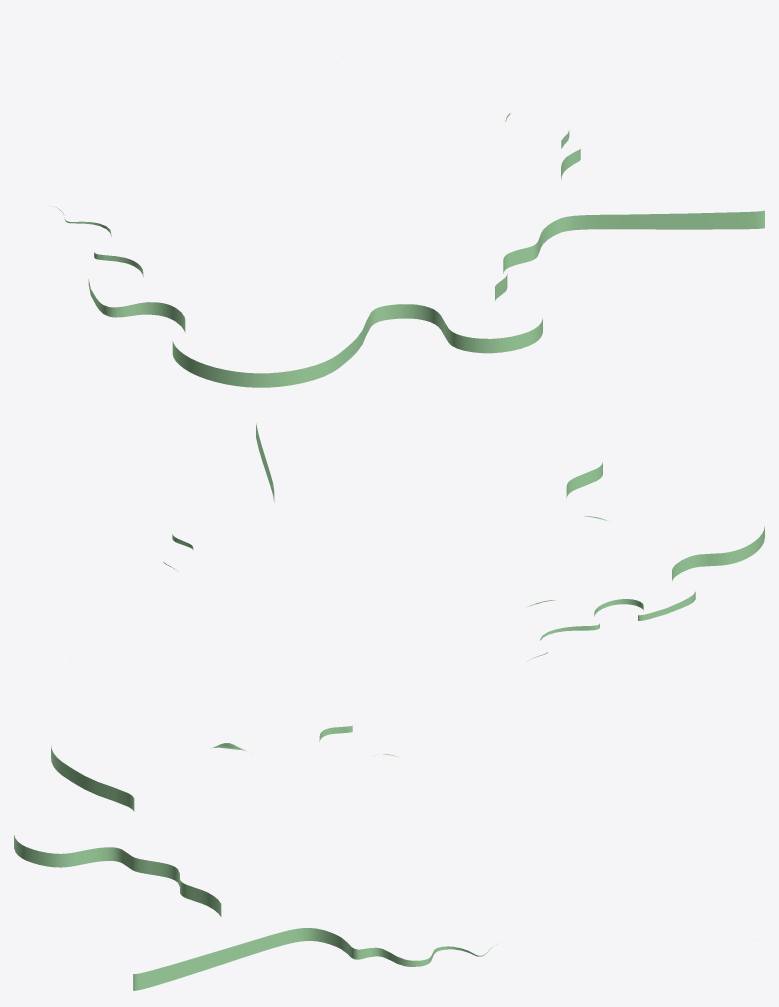
File: island_draft_rhino.gltf
The picture shows the model from 3 angles, top to bottom: view 1: azimuth 30°, elevation 25°; view 2: azimuth 150°, elevation 25°; view 3: azimuth 270°, elevation 25°; orthographic projection. The views are drawn at different scales.
Visible parts, largest first — view 1: island_boundary; view 2: island_boundary; view 3: island_boundary.
Boxes of the visible parts, left/top/right/bottom form: island_boundary: left=50, top=14, right=764, bottom=387; island_boundary: left=69, top=423, right=764, bottom=671; island_boundary: left=14, top=725, right=755, bottom=990.
Size of the model in its own units: 2570 by 176 by 2987.
